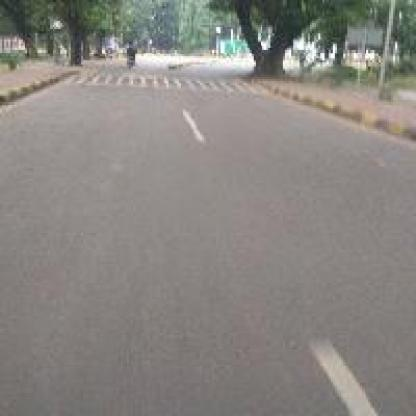Speed Bump: (63, 69, 270, 98)
